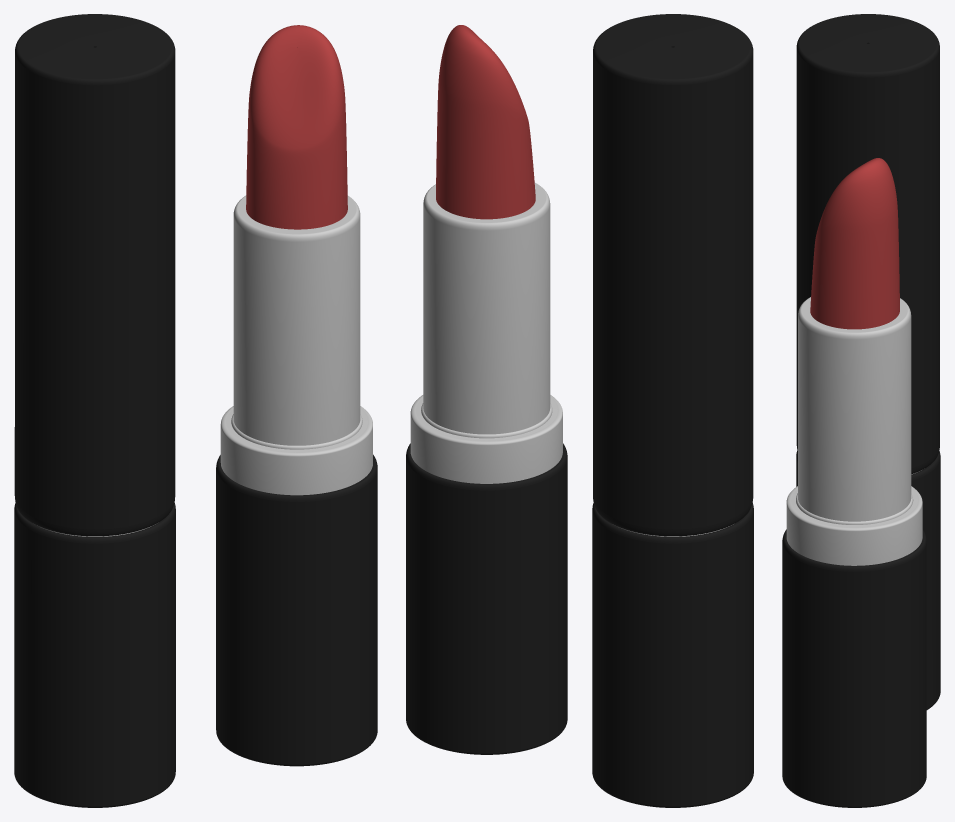
File: Lipstick.fbx
3 views of the same model, side by side, from view 1: azimuth 30°, elevation 25°; view 2: azimuth 150°, elevation 25°; view 3: azimuth 270°, elevation 25° (orthographic). The views are drawn at different scales.
Visible parts, largest first — view 1: Lathe_3, Lathe, Lathe_4, Lathe_2, Lathe_NURBS; view 2: Lathe_3, Lathe, Lathe_4, Lathe_2, Lathe_NURBS; view 3: Lathe_3, Lathe, Lathe_2, Lathe_NURBS, Lathe_4.
Boxes of the visible parts, left/top/right/bottom form: Lathe_3: left=14, top=14, right=175, bottom=536; Lathe: left=216, top=454, right=377, bottom=766; Lathe_4: left=14, top=503, right=175, bottom=807; Lathe_2: left=220, top=195, right=372, bottom=495; Lathe_NURBS: left=246, top=25, right=347, bottom=229; Lathe_3: left=593, top=14, right=753, bottom=536; Lathe: left=406, top=443, right=567, bottom=754; Lathe_4: left=592, top=503, right=753, bottom=807; Lathe_2: left=410, top=182, right=562, bottom=483; Lathe_NURBS: left=436, top=25, right=535, bottom=219; Lathe_3: left=796, top=14, right=939, bottom=474; Lathe: left=782, top=529, right=926, bottom=807; Lathe_2: left=786, top=297, right=922, bottom=565; Lathe_NURBS: left=810, top=158, right=899, bottom=329; Lathe_4: left=796, top=451, right=940, bottom=709.
Size of the model in its own units: 95.05 by 198 by 43.64.
